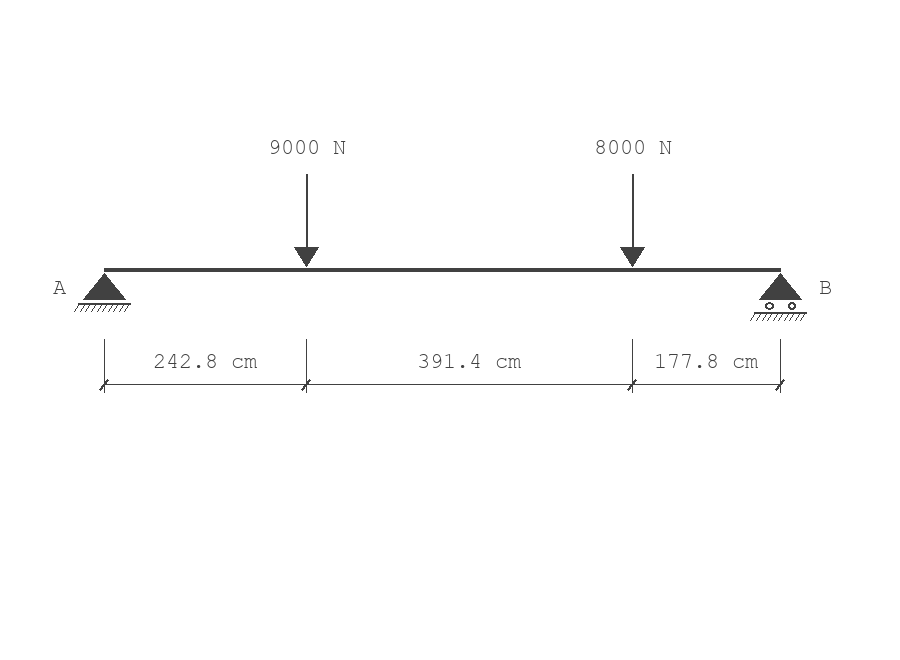pin_support: (74, 273, 131, 312)
point_load: (294, 174, 319, 267), (620, 174, 645, 267)
roller_support: (750, 273, 807, 321)
